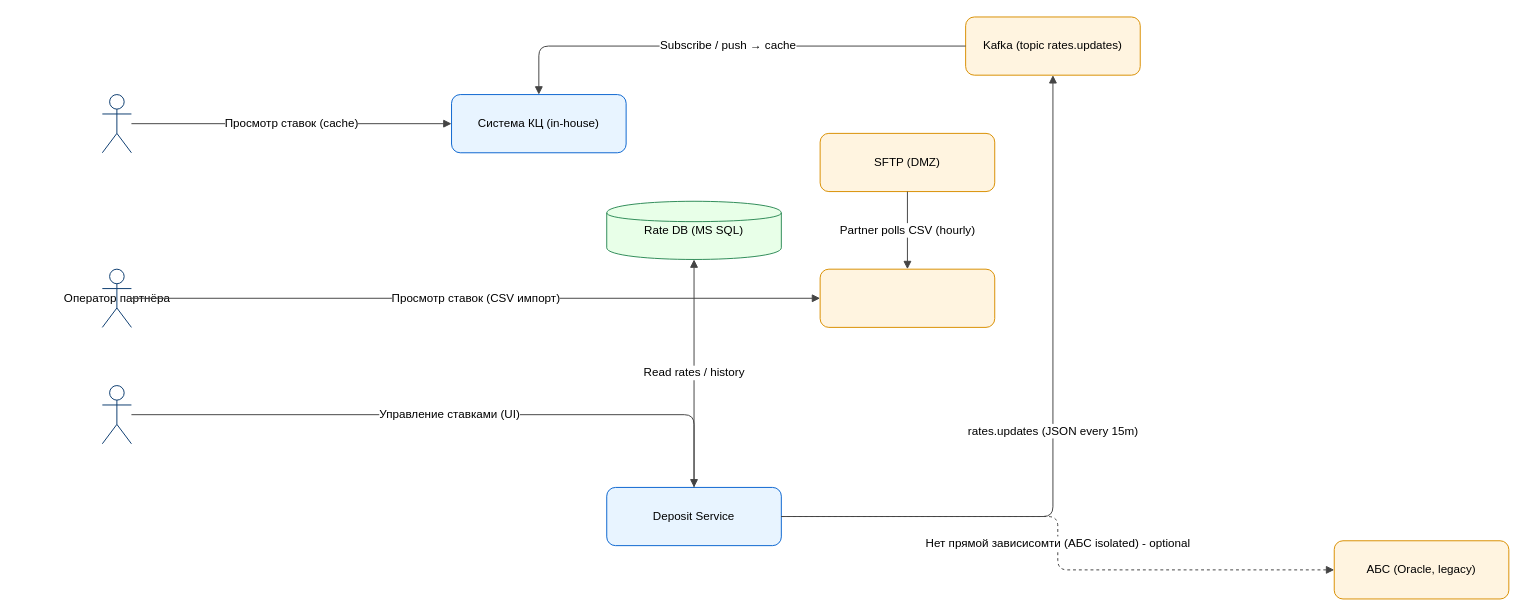
This 1526x616 diagram has some shape labels left out. The centre of each missing label's shape, as x and y in pixels:
Оператор КЦ (in-house): [116,123]
Партнёрская система КЦ: [907,297]
Сотрудник бэк-офиса (админ ставок): [116,414]
